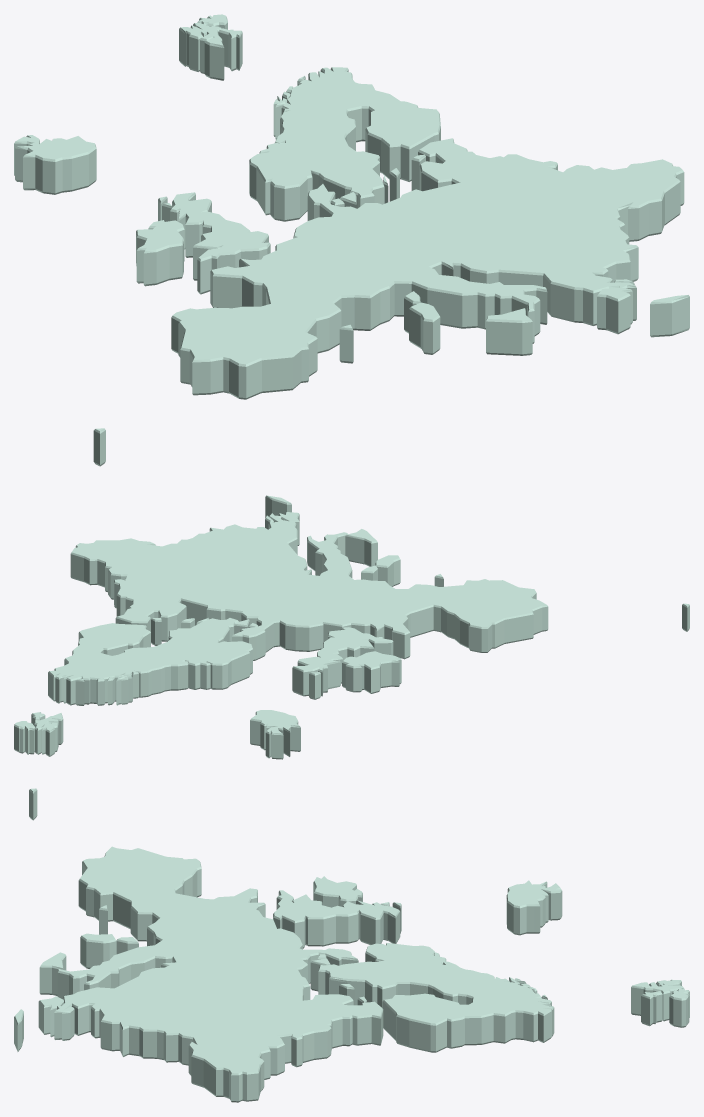
File: europa.glb
The picture shows the model from 3 angles, top to bottom: view 1: azimuth 30°, elevation 25°; view 2: azimuth 150°, elevation 25°; view 3: azimuth 270°, elevation 25°; orthographic projection. The views are drawn at different scales.
Bounding box in the file's own units: 1.42 × 0.068 × 1.42.
